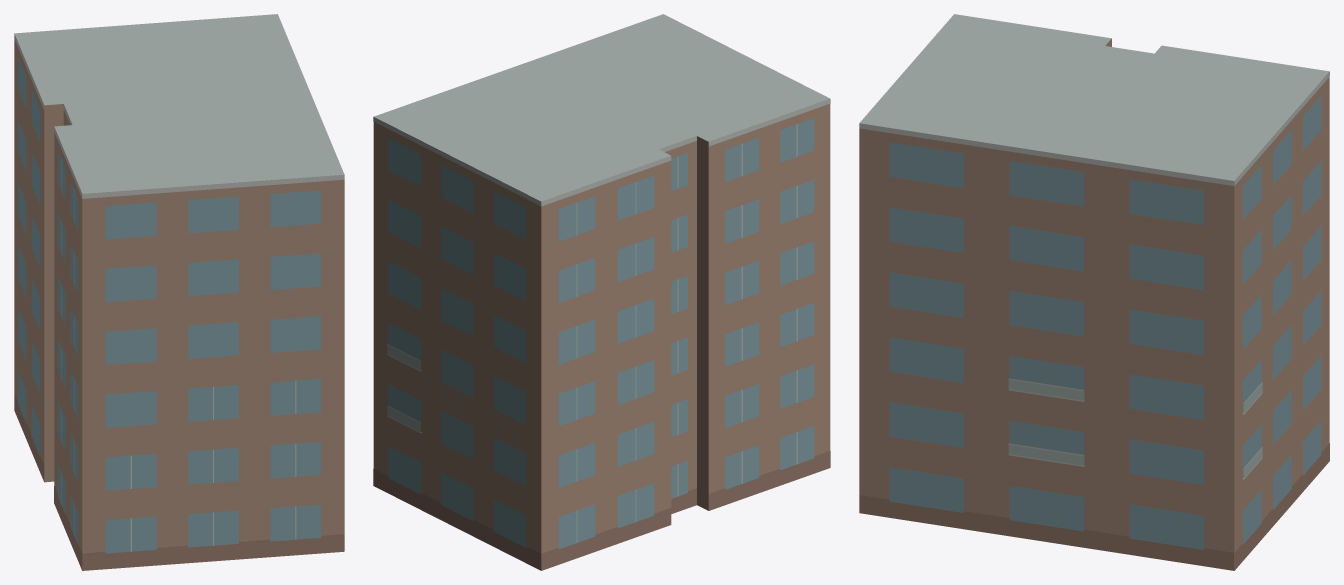
Rendered from survey-upis-32552575.glb.
3 renders of one model, left to right at view 1: azimuth 30°, elevation 25°; view 2: azimuth 150°, elevation 25°; view 3: azimuth 270°, elevation 25°, orthographic. The views are drawn at different scales.
Parts seen in each view (by area): view 1: survey-upis-32552575.tmp; view 2: survey-upis-32552575.tmp; view 3: survey-upis-32552575.tmp.
Boxes of the visible parts, x1=… form: survey-upis-32552575.tmp: x1=14, y1=14, x2=344, y2=570; survey-upis-32552575.tmp: x1=373, y1=14, x2=830, y2=570; survey-upis-32552575.tmp: x1=859, y1=14, x2=1329, y2=570.
Bounding box in the file's own units: 17.01 × 18.5 × 20.24.
